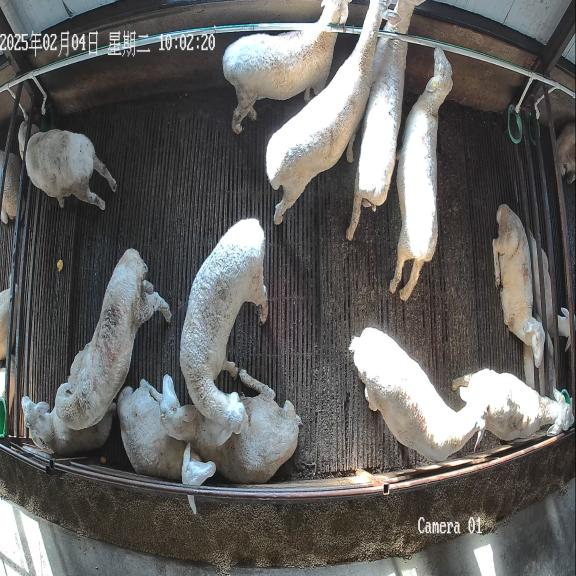drinking: (18, 121, 116, 210)
lying: (155, 371, 301, 484), (117, 379, 216, 485), (493, 205, 544, 367), (22, 396, 116, 455)
stand: (267, 0, 392, 224), (53, 249, 171, 430), (180, 219, 268, 444), (346, 0, 425, 239), (349, 327, 487, 461), (223, 0, 350, 133), (389, 48, 452, 301), (452, 368, 573, 440)
